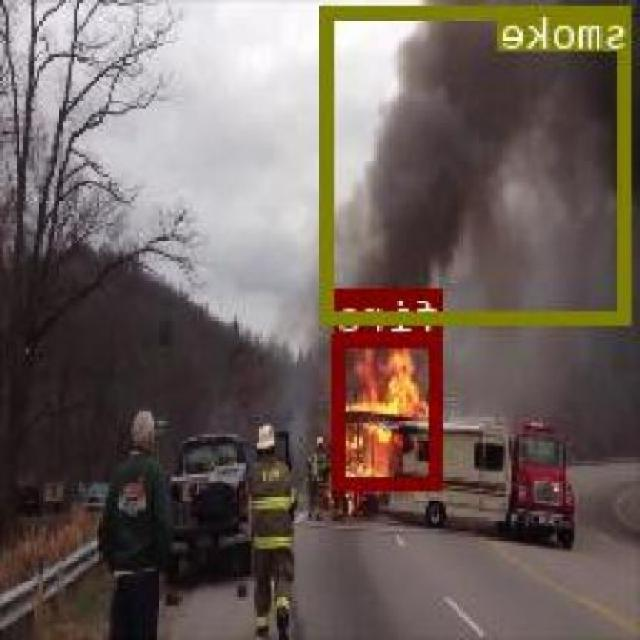Fire: (334, 332, 444, 488)
Smoke: (323, 3, 632, 323)
